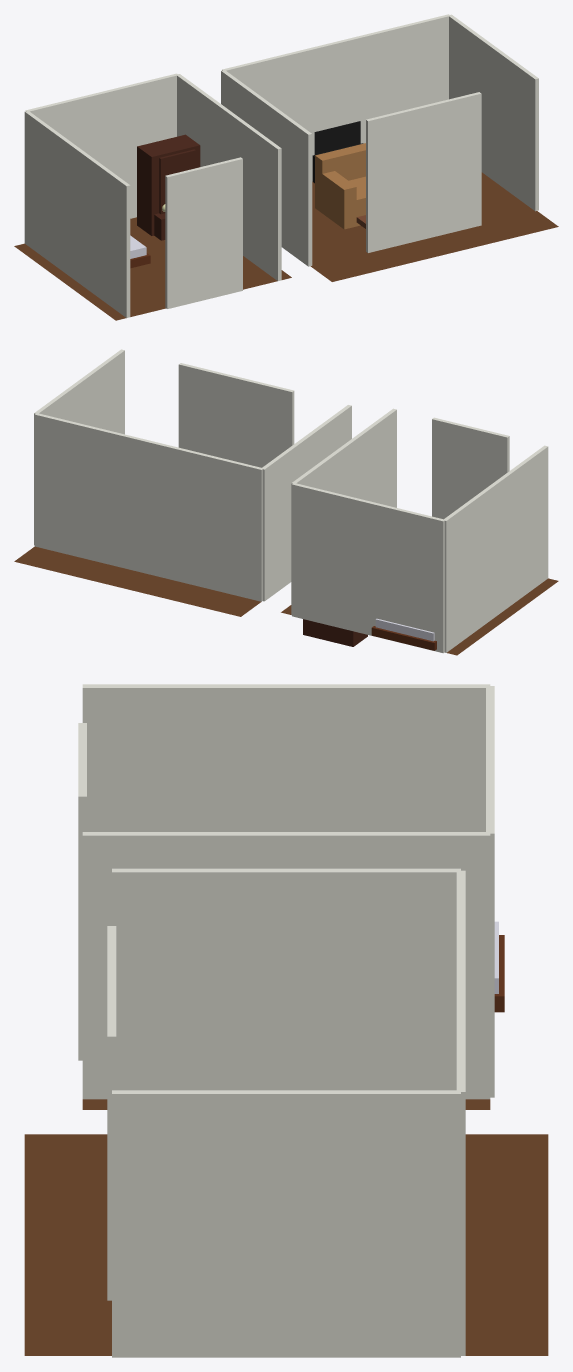
Rendered from boq_professional_37d7aa23-e5a3-4035-9a22-e6a87ff586fe.obj.
3 renders of one model, top to bottom at view 1: azimuth 30°, elevation 25°; view 2: azimuth 150°, elevation 25°; view 3: azimuth 270°, elevation 25°, orthographic. The views are drawn at different scales.
Parts seen in each view (by area): view 1: BackWall_Living_Room, FrontWall_Living_Room, LeftWall_Master_Bedroom, FrontWall_Master_Bedroom, RightWall_Living_Room, RightWall_Master_Bedroom, BackWall_Master_Bedroom, Floor_Living_Room, LeftWall_Living_Room, Floor_Master_Bedroom, Wardrobe_Master_Bedroom, SofaBody_Living_Room (+5 smaller); view 2: BackWall_Living_Room, BackWall_Master_Bedroom, LeftWall_Master_Bedroom, FrontWall_Living_Room, LeftWall_Living_Room, FrontWall_Master_Bedroom, RightWall_Master_Bedroom, Floor_Living_Room, RightWall_Living_Room, Floor_Master_Bedroom, Wardrobe_Master_Bedroom, BedFrame_Master_Bedroom (+1 smaller); view 3: RightWall_Living_Room, LeftWall_Living_Room, LeftWall_Master_Bedroom, Floor_Living_Room, RightWall_Master_Bedroom, BackWall_Living_Room, FrontWall_Living_Room, BackWall_Master_Bedroom, FrontWall_Master_Bedroom.
Part boxes in pixels (left/top/right/bottom): BackWall_Living_Room: left=222, top=14, right=450, bottom=181; FrontWall_Living_Room: left=366, top=92, right=481, bottom=252; LeftWall_Master_Bedroom: left=24, top=111, right=130, bottom=317; FrontWall_Master_Bedroom: left=165, top=157, right=242, bottom=308; RightWall_Living_Room: left=449, top=14, right=538, bottom=211; RightWall_Master_Bedroom: left=177, top=74, right=281, bottom=280; BackWall_Master_Bedroom: left=25, top=73, right=178, bottom=218; Floor_Living_Room: left=310, top=172, right=558, bottom=281; LeftWall_Living_Room: left=221, top=70, right=312, bottom=266; Floor_Master_Bedroom: left=14, top=217, right=291, bottom=320; Wardrobe_Master_Bedroom: left=137, top=134, right=200, bottom=235; SofaBody_Living_Room: left=315, top=176, right=365, bottom=229; BackWall_Living_Room: left=34, top=413, right=262, bottom=601; BackWall_Master_Bedroom: left=292, top=483, right=445, bottom=653; LeftWall_Master_Bedroom: left=444, top=445, right=548, bottom=652; FrontWall_Living_Room: left=178, top=363, right=294, bottom=467; LeftWall_Living_Room: left=262, top=405, right=351, bottom=601; FrontWall_Master_Bedroom: left=432, top=417, right=509, bottom=519; RightWall_Master_Bedroom: left=291, top=408, right=396, bottom=615; Floor_Living_Room: left=14, top=546, right=261, bottom=616; RightWall_Living_Room: left=34, top=349, right=124, bottom=545; Floor_Master_Bedroom: left=281, top=578, right=558, bottom=655; Wardrobe_Master_Bedroom: left=303, top=619, right=367, bottom=646; BedFrame_Master_Bedroom: left=371, top=626, right=436, bottom=650; RightWall_Living_Room: left=112, top=1090, right=460, bottom=1357; LeftWall_Living_Room: left=112, top=868, right=460, bottom=1090; LeftWall_Master_Bedroom: left=82, top=684, right=490, bottom=831; Floor_Living_Room: left=24, top=1134, right=548, bottom=1355; RightWall_Master_Bedroom: left=82, top=832, right=490, bottom=1099; BackWall_Living_Room: left=456, top=870, right=465, bottom=1355; FrontWall_Living_Room: left=107, top=926, right=116, bottom=1300; BackWall_Master_Bedroom: left=486, top=686, right=494, bottom=1097; FrontWall_Master_Bedroom: left=78, top=723, right=86, bottom=1060.
Bounding box in the file's own units: 34.15 × 12 × 18.
